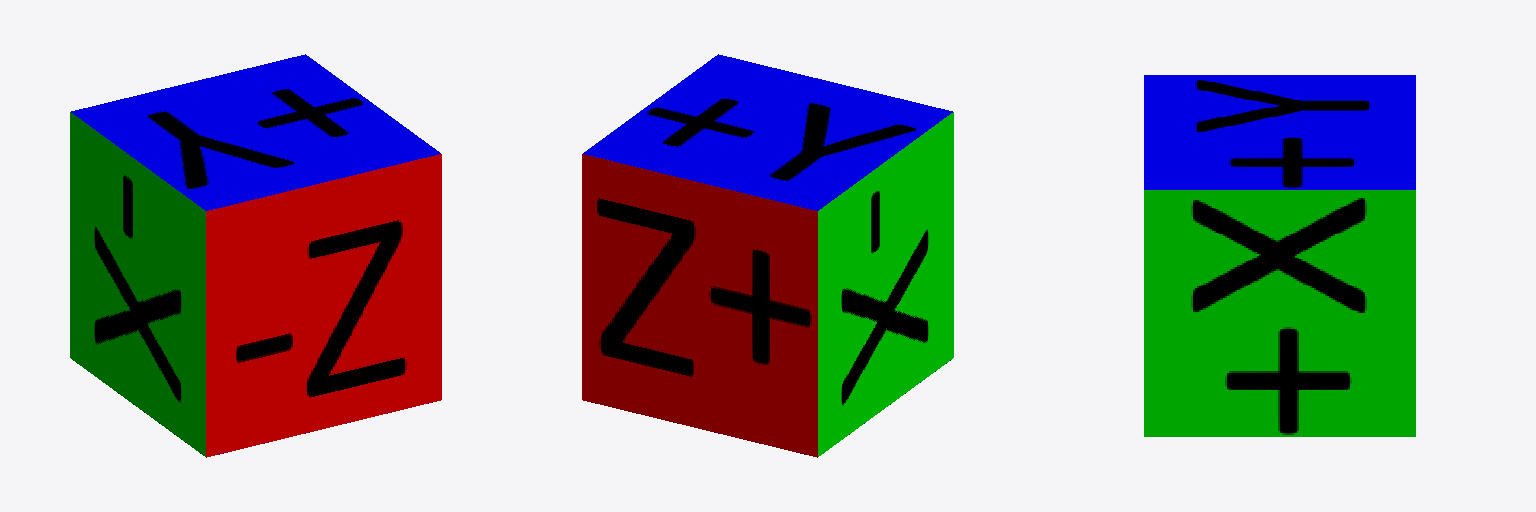
The picture shows the model from 3 angles: view 1: azimuth 30°, elevation 25°; view 2: azimuth 150°, elevation 25°; view 3: azimuth 270°, elevation 25°; orthographic projection.
Parts seen in each view (by area): view 1: test_Cube; view 2: test_Cube; view 3: test_Cube.
Part boxes in pixels (left/top/right/bottom): test_Cube: left=70, top=54, right=441, bottom=457; test_Cube: left=582, top=54, right=953, bottom=457; test_Cube: left=1144, top=75, right=1415, bottom=436.
Bounding box in the file's own units: 2 × 2 × 2.
Materials: 1 (1 with a texture image).